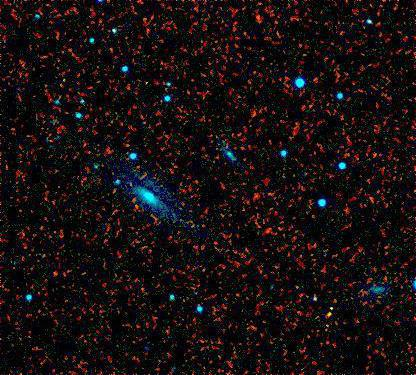star: (314, 297, 344, 327)
